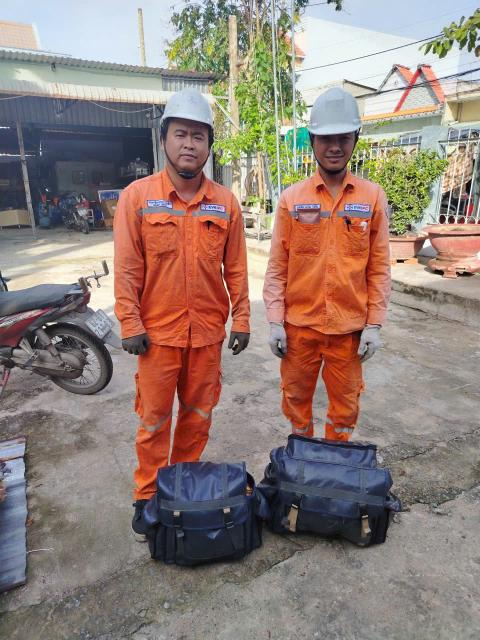gloves: (212, 308, 263, 358), (258, 312, 302, 365), (350, 318, 388, 367), (117, 314, 158, 357)
helmet: (303, 86, 364, 150), (158, 87, 219, 147)
shoes: (113, 486, 170, 541)
